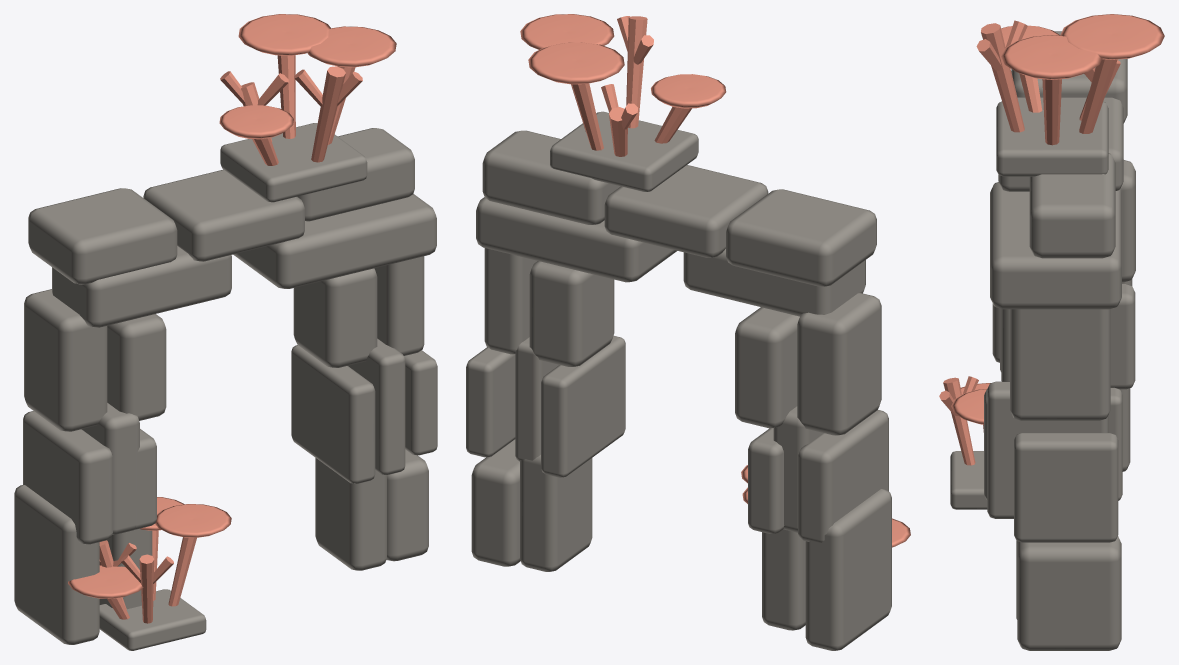
Rendered from public-aquarium-and-marine-centre-tank-rockwork-arch-bb6b8bf3__34150.glb.
The picture shows the model from 3 angles, left to right: view 1: azimuth 30°, elevation 25°; view 2: azimuth 150°, elevation 25°; view 3: azimuth 270°, elevation 25°; orthographic projection. The views are drawn at different scales.
Visible parts, largest first — view 1: tank-rockwork-arch; view 2: tank-rockwork-arch; view 3: tank-rockwork-arch.
Part boxes in pixels (x1,y1,x2,y2): tank-rockwork-arch: [14, 14, 437, 650]; tank-rockwork-arch: [466, 14, 910, 650]; tank-rockwork-arch: [939, 14, 1164, 650].
Size of the model in its own units: 1.15 by 1.52 by 0.5424.
